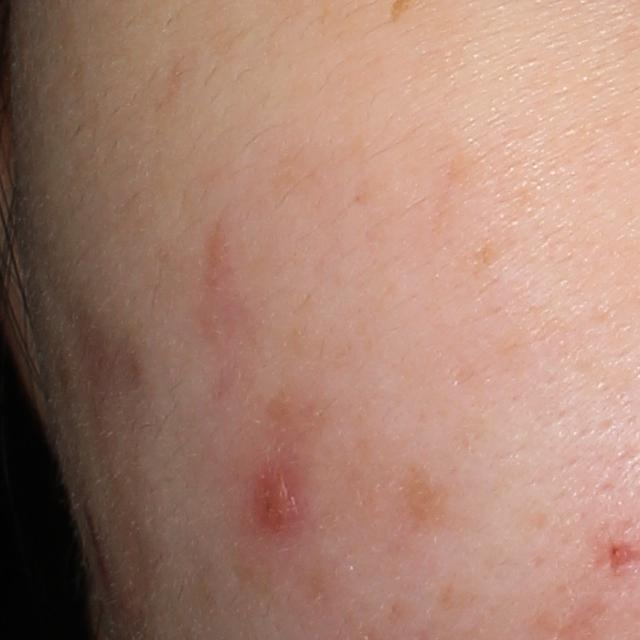papule: (254, 470, 305, 528)
